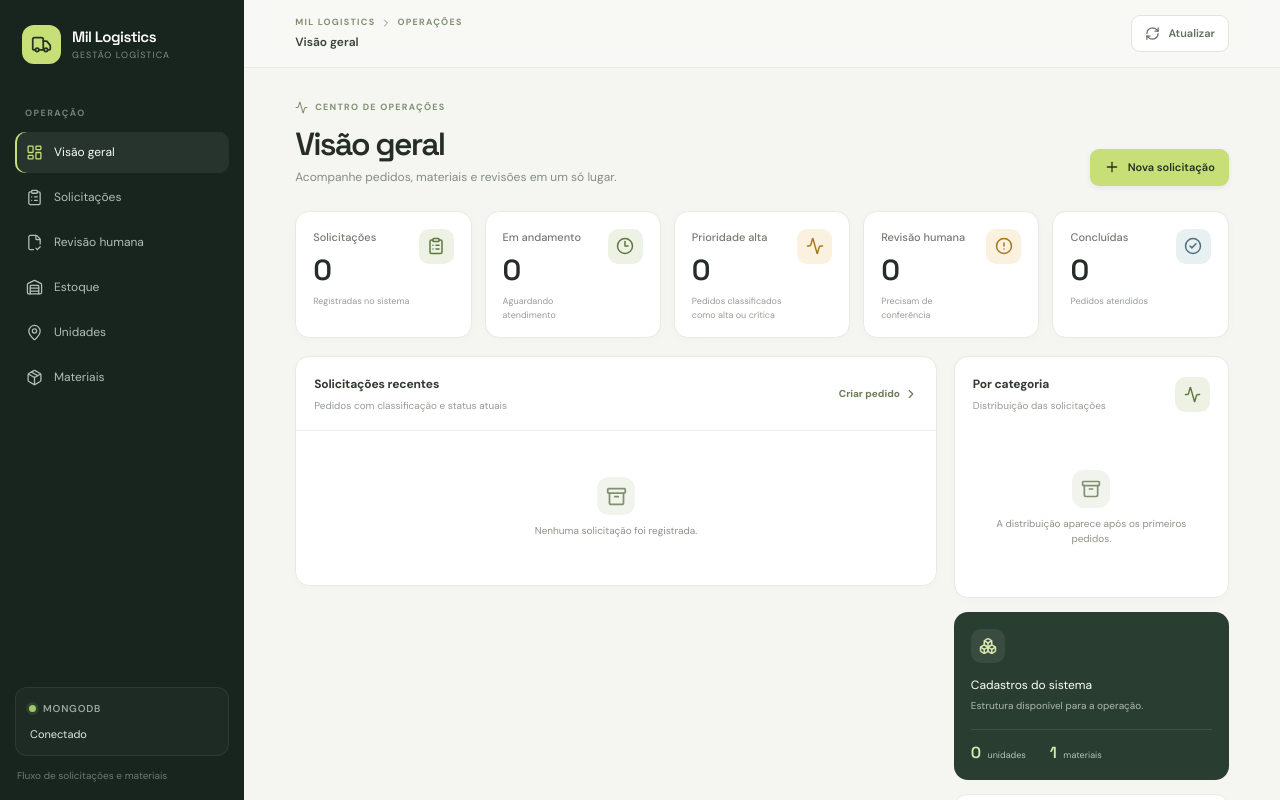
Test case: App › saves edits to a material through the API client
Step 1. Click the button "Materiais" → (122,377), box [15,356,229,398]
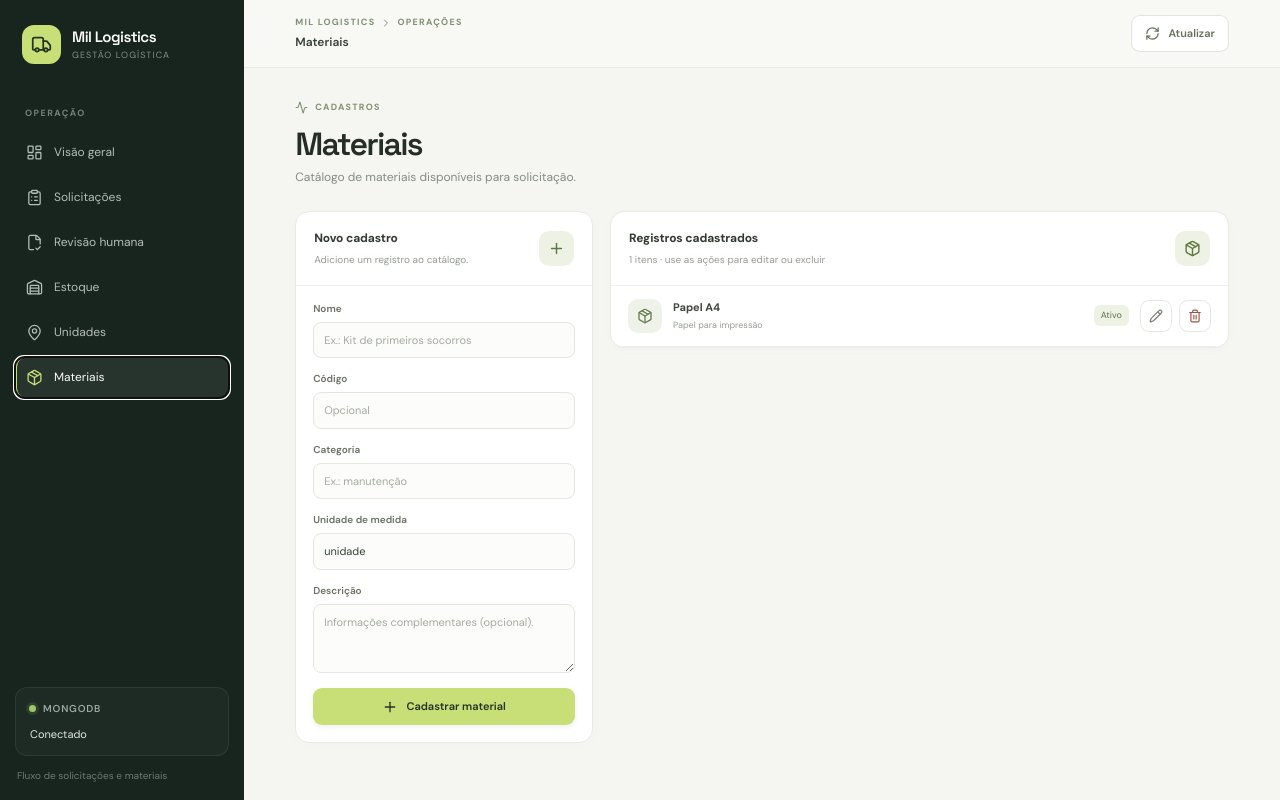
Result: the text "Papel A4" is shown at [673,300,720,314]
Step 2. Click the button named "Editar Papel A4" → (1156,316), box [1140,300,1172,332]
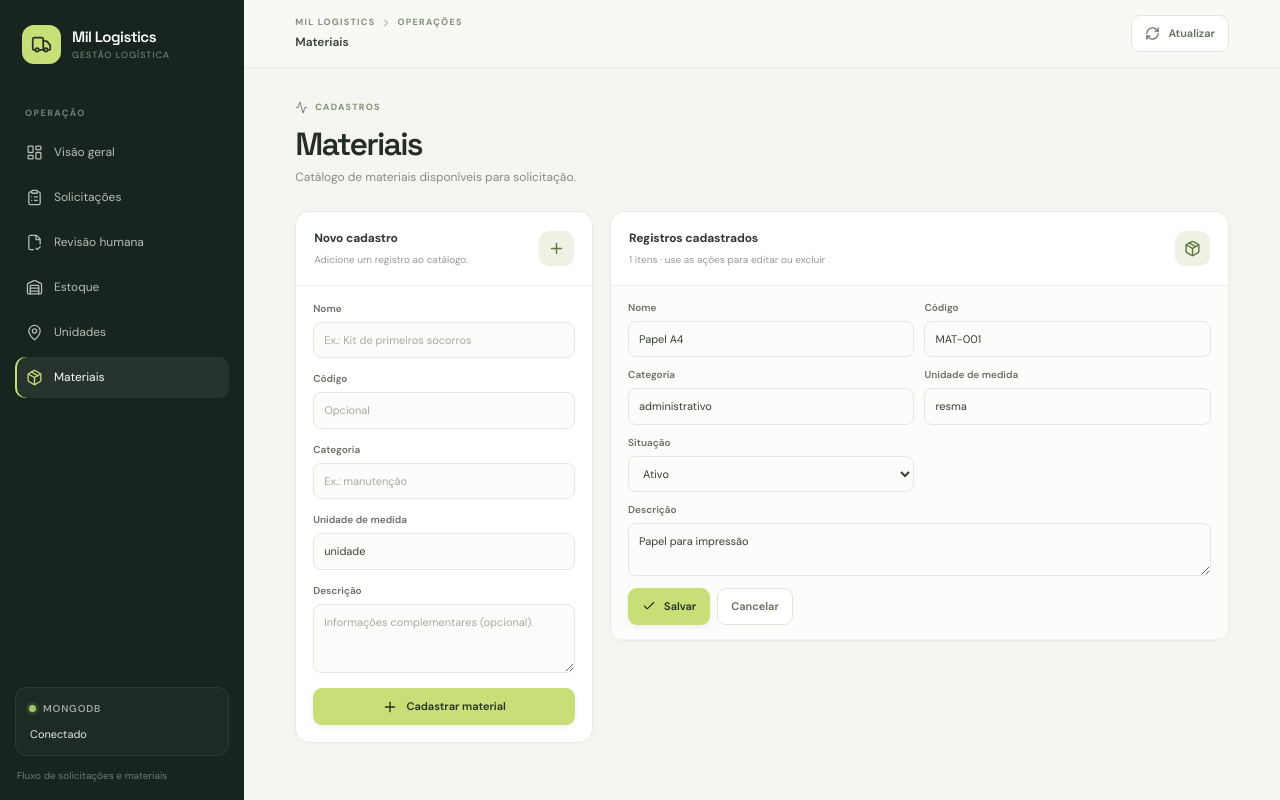
Step 3. Replace the text in the field labelled "Nome" below "Registros cadastrados" with "Papel A4 reciclado" → (771,339), box [628,320,914,357]
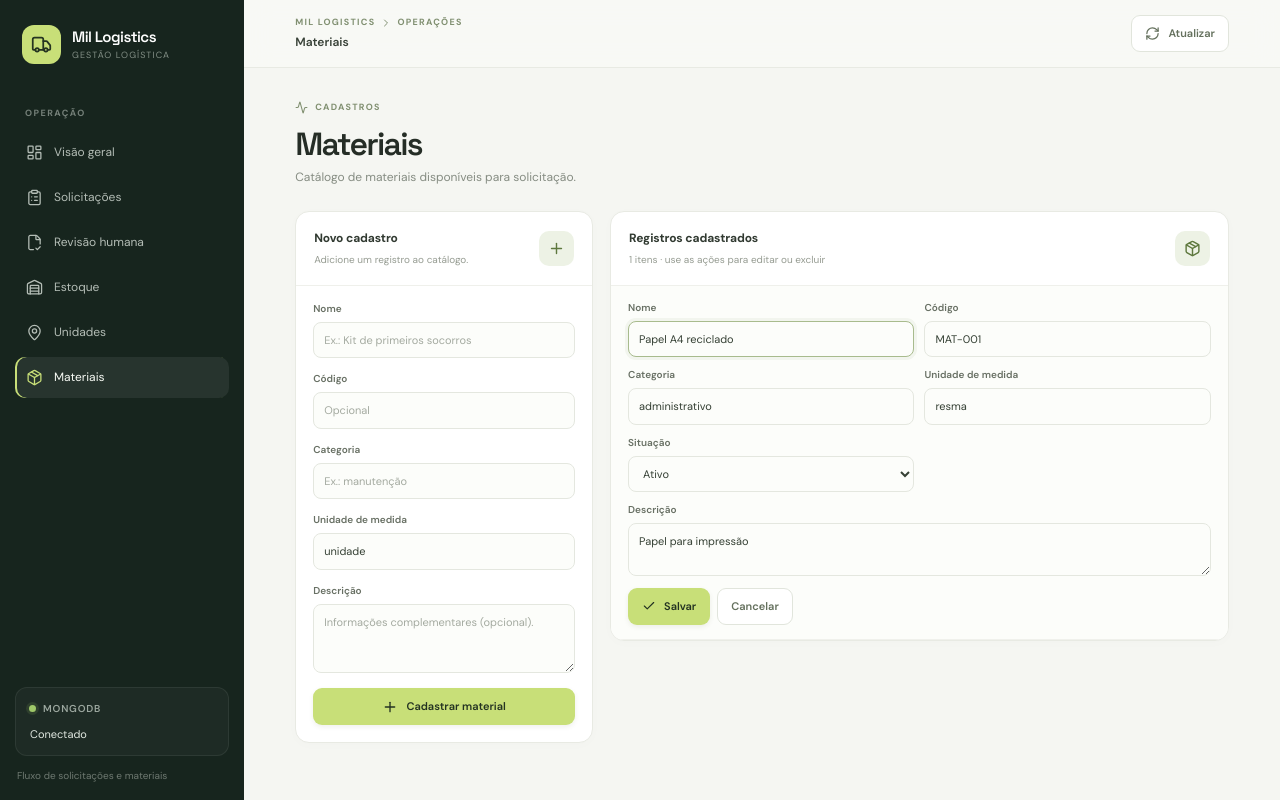
Step 4. Click the button "Salvar" → (669,606), box [628,588,710,624]
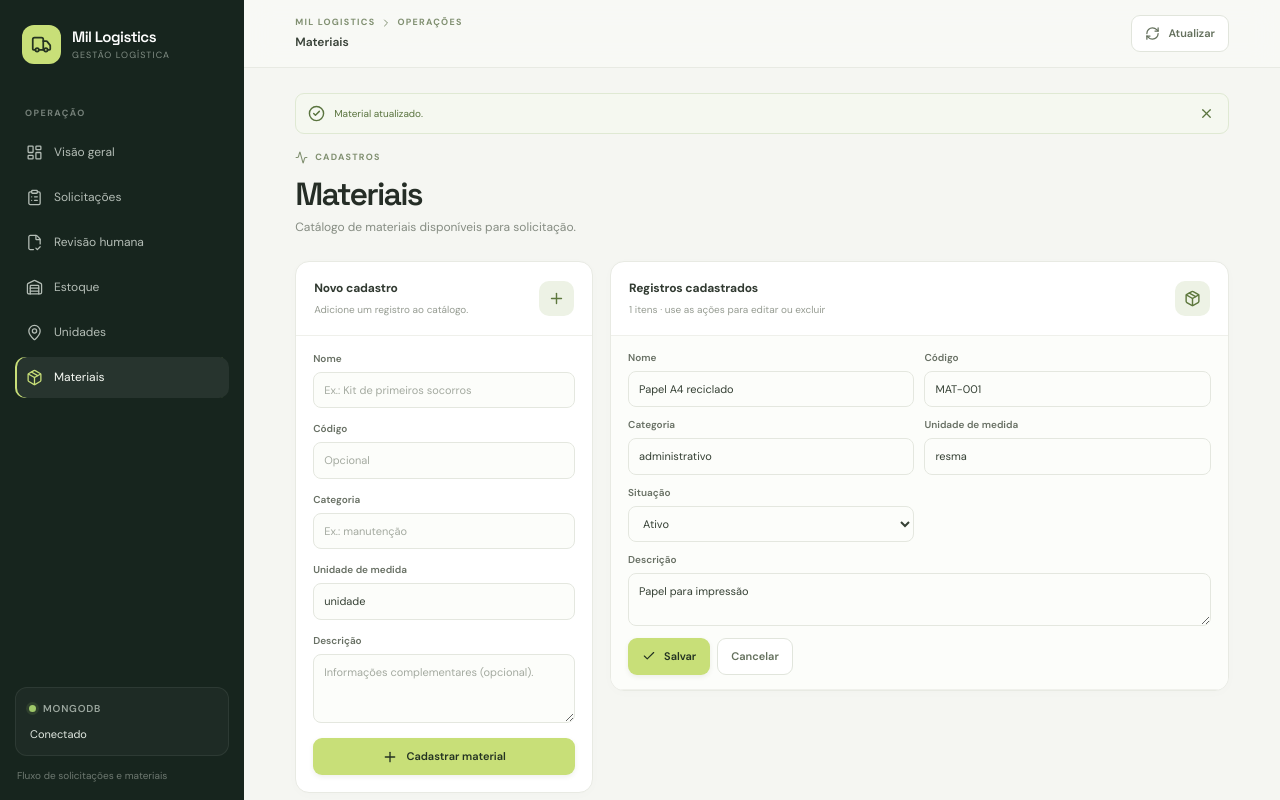
Result: the text "Material atualizado." is shown at [334,106,423,121]
